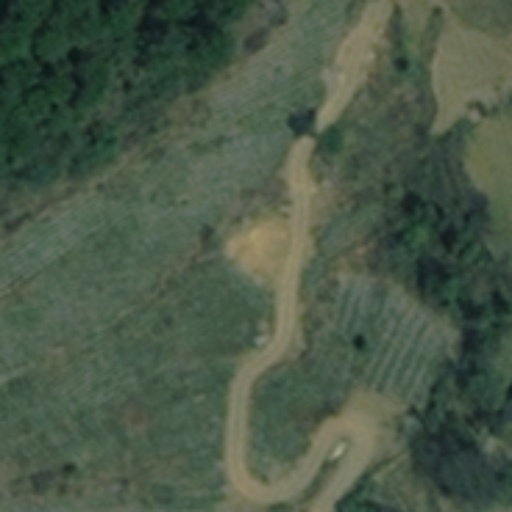landslide: (223, 211, 293, 292)
